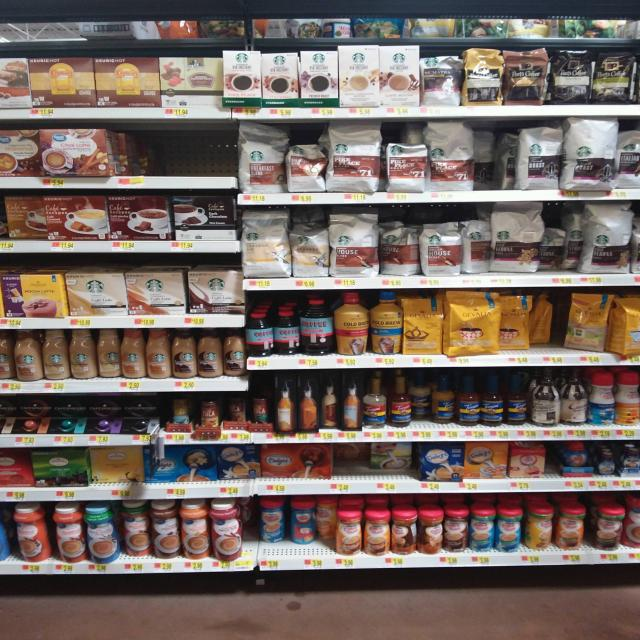void: (110, 124, 234, 180)
